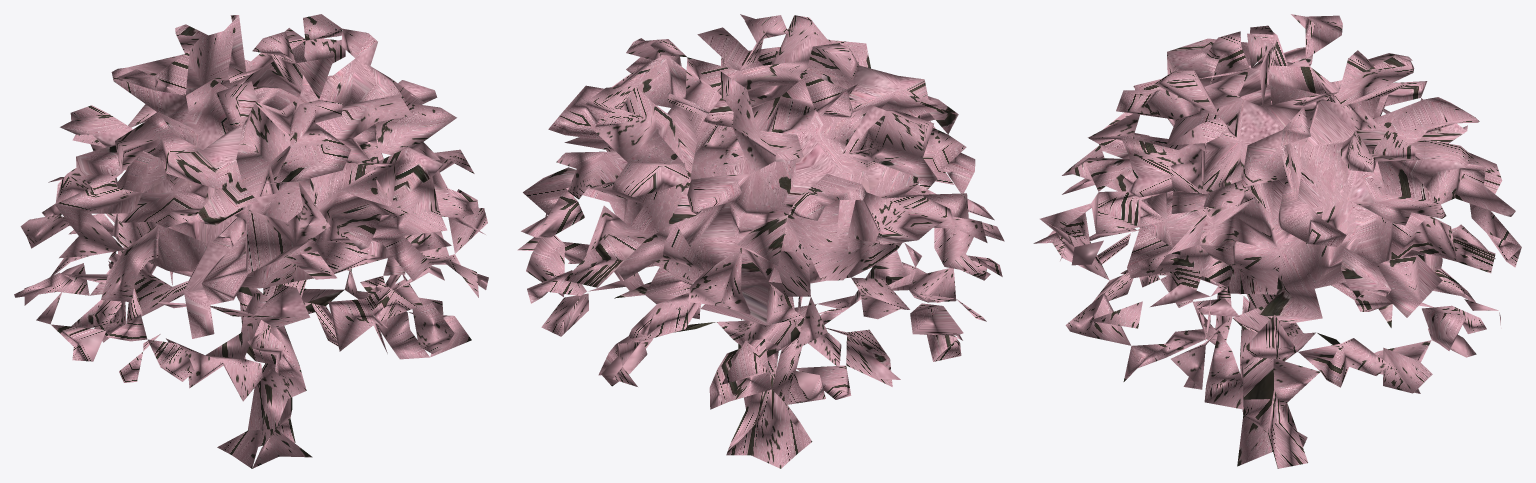
Rendered from cherry-lo.glb.
3 renders of one model, left to right at view 1: azimuth 30°, elevation 25°; view 2: azimuth 150°, elevation 25°; view 3: azimuth 270°, elevation 25°, orthographic.
Size of the model in its own units: 5.66 by 5.15 by 5.45.
Materials: 1 (1 with a texture image).
